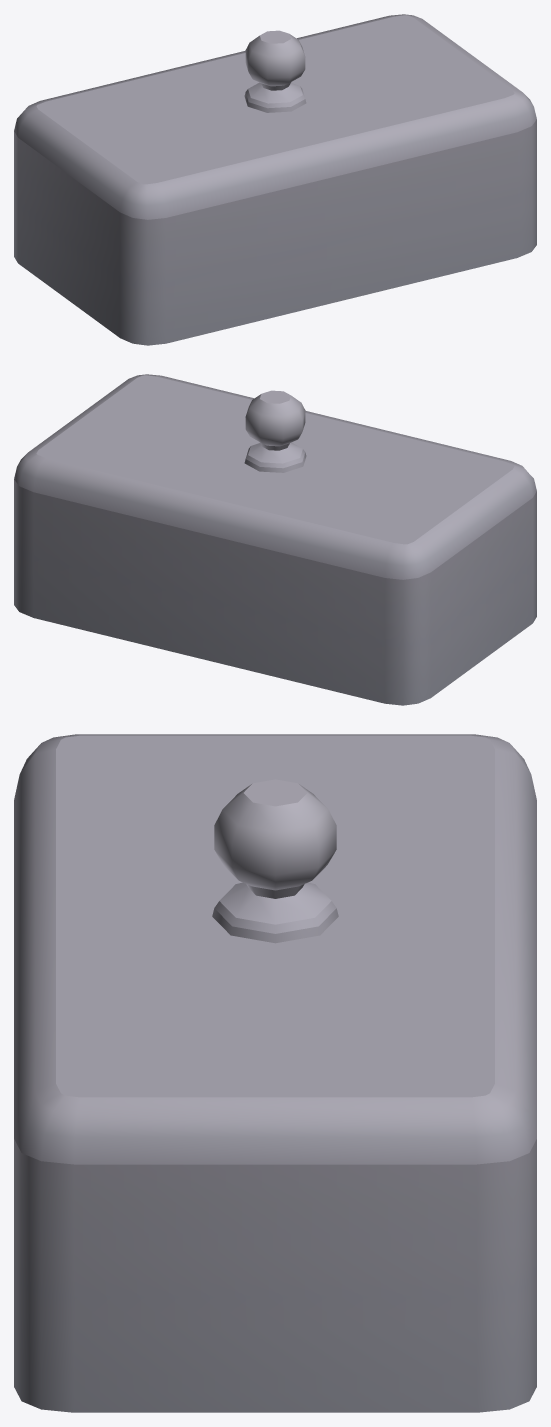
The model's file is ButterBox_Cover.glb.
3 views of the same model, one above another, from view 1: azimuth 30°, elevation 25°; view 2: azimuth 150°, elevation 25°; view 3: azimuth 270°, elevation 25° (orthographic). The views are drawn at different scales.
Visible parts, largest first — view 1: ButterBox_Cover; view 2: ButterBox_Cover; view 3: ButterBox_Cover.
Part boxes in pixels (x1=…): ButterBox_Cover: x1=14, y1=14, x2=536, y2=345; ButterBox_Cover: x1=14, y1=374, x2=536, y2=705; ButterBox_Cover: x1=14, y1=734, x2=536, y2=1412.
Bounding box in the file's own units: 0.3505 × 0.1746 × 0.1948.
1 material, 1 textured.
